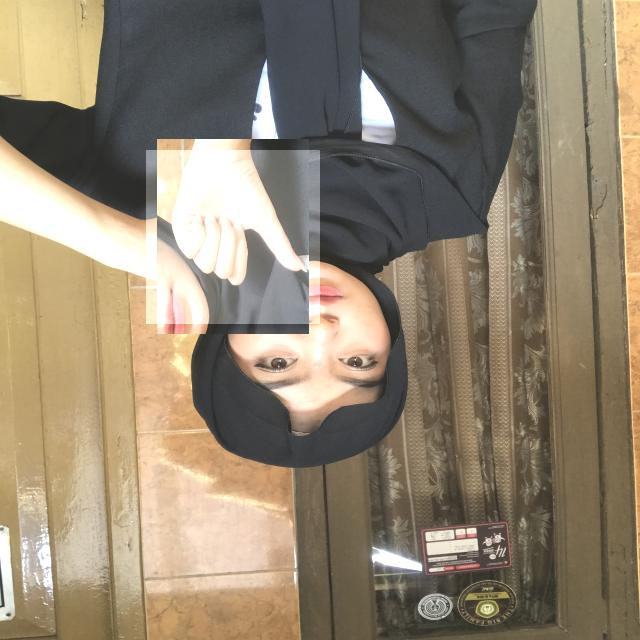sedih: (146, 150, 320, 324)
